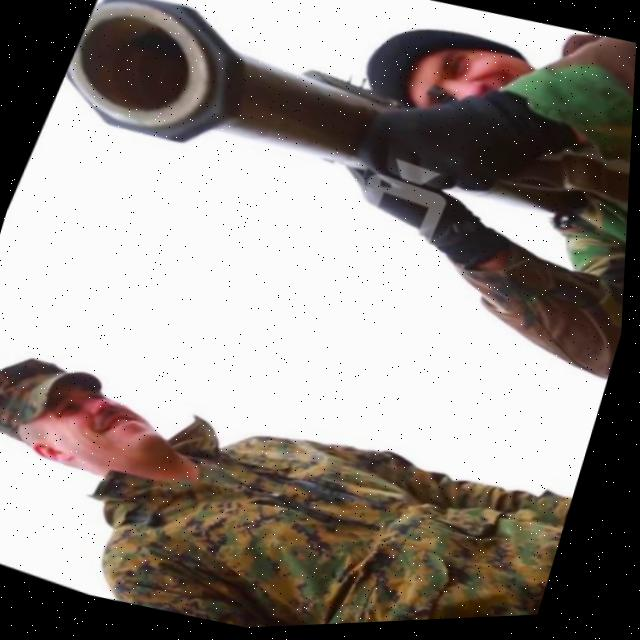rocket: (39, 0, 416, 224)
